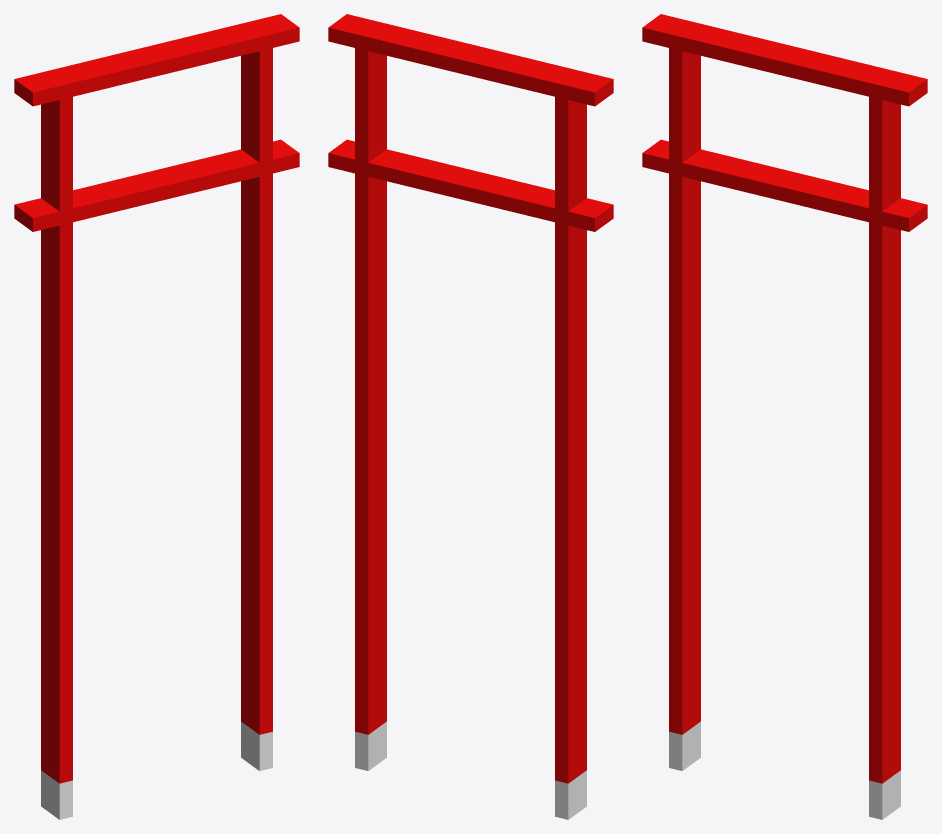
The model's file is Pintu 2.fbx.
3 views of the same model, side by side, from view 1: azimuth 30°, elevation 25°; view 2: azimuth 150°, elevation 25°; view 3: azimuth 330°, elevation 25° (orthographic).
Parts seen in each view (by area): view 1: Group1; view 2: Group1; view 3: Group1.
Part boxes in pixels (bbox=[...]): Group1: bbox=[14, 14, 299, 819]; Group1: bbox=[328, 14, 613, 819]; Group1: bbox=[642, 14, 927, 819].
Size of the model in its own units: 1 by 2.63 by 0.12.
